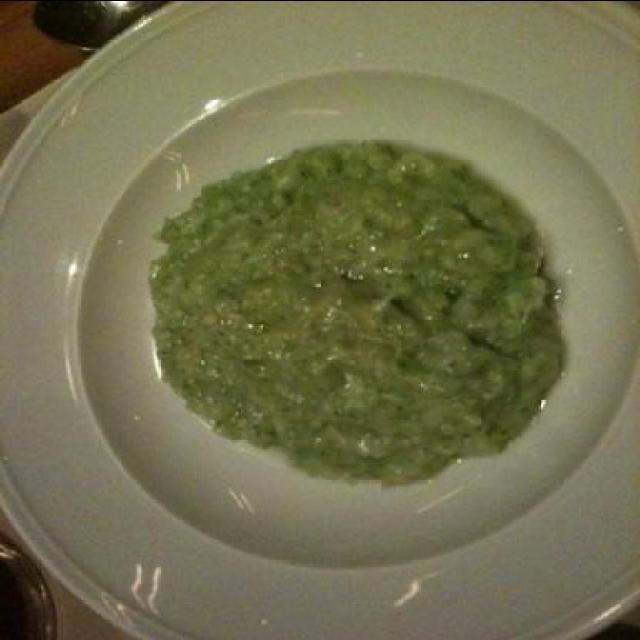Risotto: (166, 140, 563, 477)
